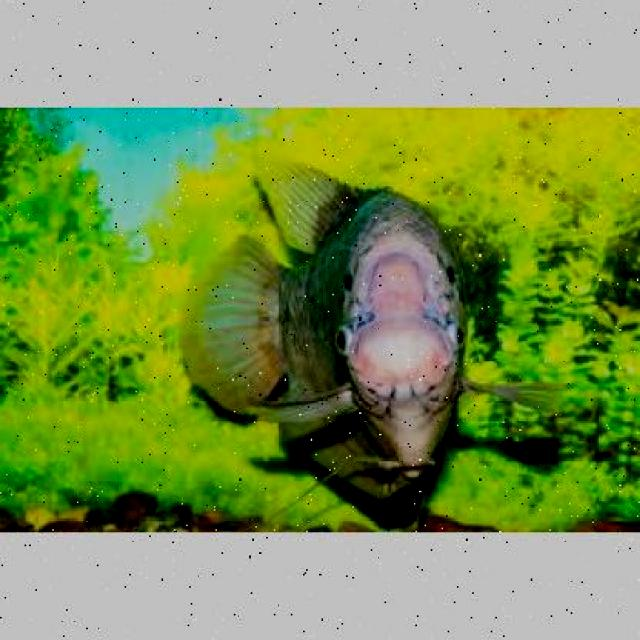gurame: (190, 170, 493, 507)
